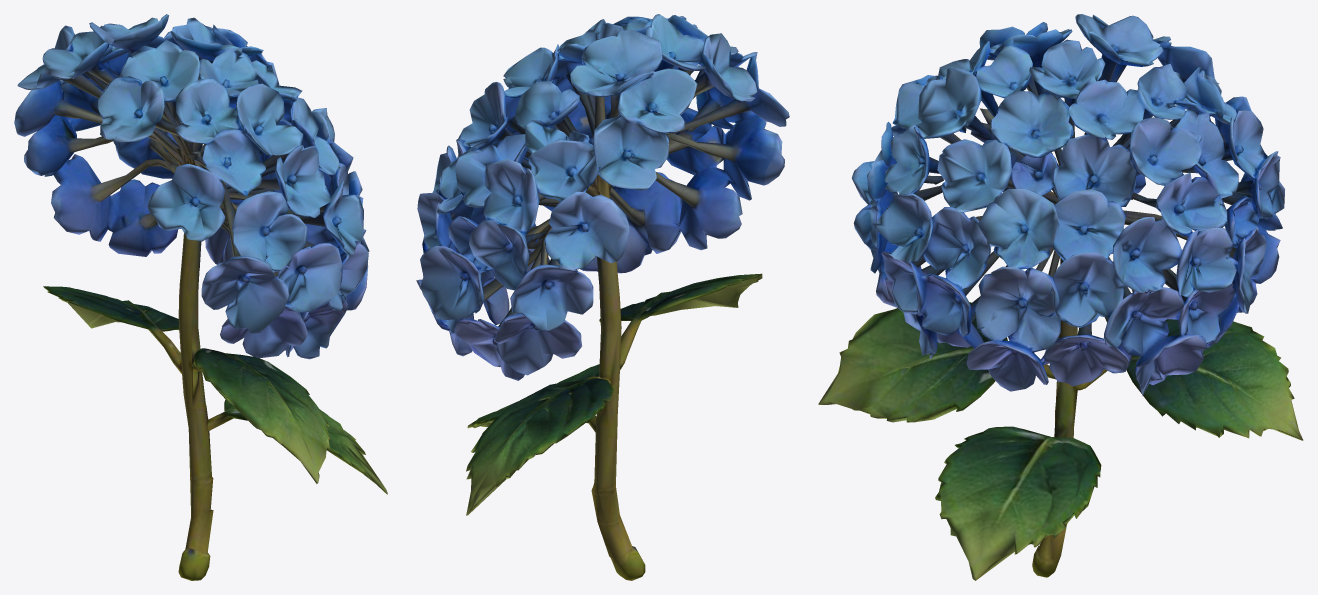
The model's file is blue hydrangea 3.glb.
3 views of the same model, side by side, from view 1: azimuth 30°, elevation 25°; view 2: azimuth 150°, elevation 25°; view 3: azimuth 270°, elevation 25° (orthographic). The views are drawn at different scales.
Visible parts, largest first — view 1: tripo_node_04515984-1a8b-430c-b560-8cd397eb1e2a; view 2: tripo_node_04515984-1a8b-430c-b560-8cd397eb1e2a; view 3: tripo_node_04515984-1a8b-430c-b560-8cd397eb1e2a.
Part boxes in pixels (left/top/right/bottom): tripo_node_04515984-1a8b-430c-b560-8cd397eb1e2a: left=14, top=14, right=387, bottom=580; tripo_node_04515984-1a8b-430c-b560-8cd397eb1e2a: left=416, top=14, right=789, bottom=580; tripo_node_04515984-1a8b-430c-b560-8cd397eb1e2a: left=818, top=14, right=1303, bottom=580.
Bounding box in the file's own units: 0.4937 × 0.9791 × 0.7902.
Materials: 1 (1 with a texture image).
